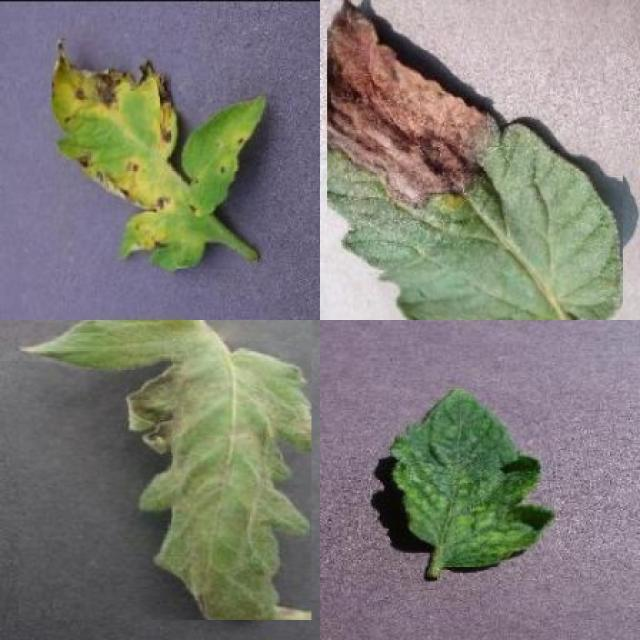Late Blight: (327, 0, 623, 320), (18, 320, 312, 620)
Mosaic Virus: (390, 390, 556, 567)
Septoria: (52, 38, 268, 268)
